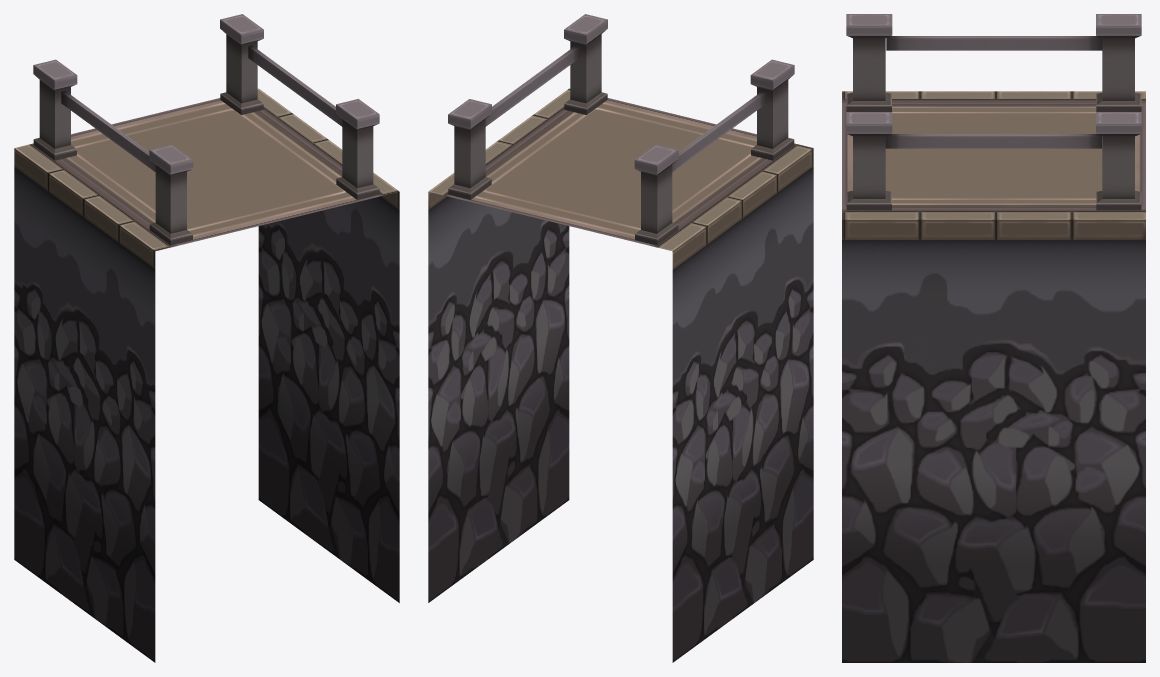
File: Embankment_02.FBX
3 renders of one model, left to right at view 1: azimuth 30°, elevation 25°; view 2: azimuth 150°, elevation 25°; view 3: azimuth 270°, elevation 25°, orthographic. The views are drawn at different scales.
Visible parts, largest first — view 1: Embankment_02; view 2: Embankment_02; view 3: Embankment_02.
Boxes of the visible parts, left/top/right/bottom form: Embankment_02: left=14, top=14, right=399, bottom=662; Embankment_02: left=428, top=14, right=813, bottom=662; Embankment_02: left=842, top=14, right=1145, bottom=662.
Bounding box in the file's own units: 82.13 × 158 × 82.08.
